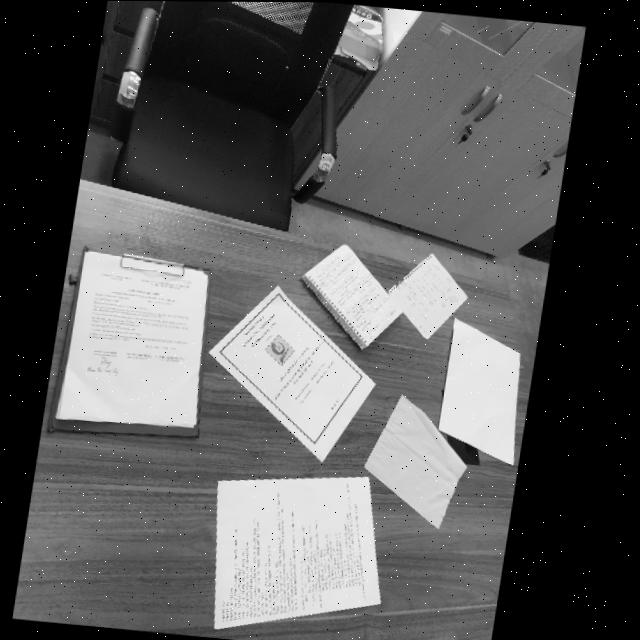document: (209, 286, 374, 461), (56, 251, 208, 427), (214, 477, 380, 628), (301, 245, 402, 350), (387, 252, 468, 340)
